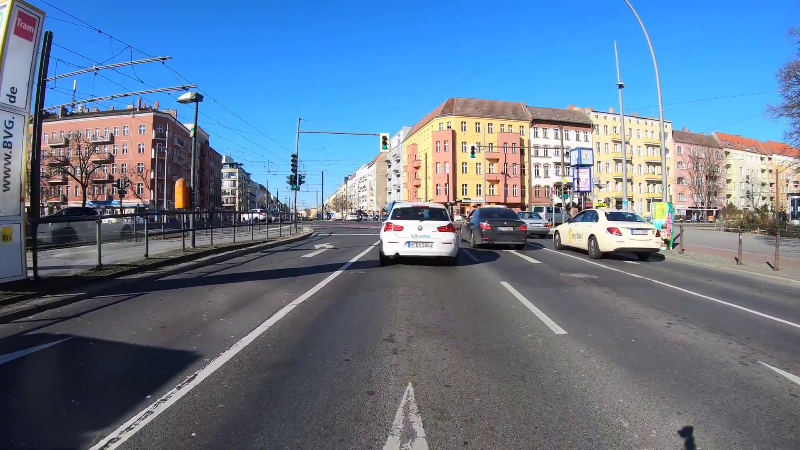Plate: (407, 241, 435, 248), (629, 228, 648, 235), (496, 225, 514, 231), (529, 222, 543, 227)
